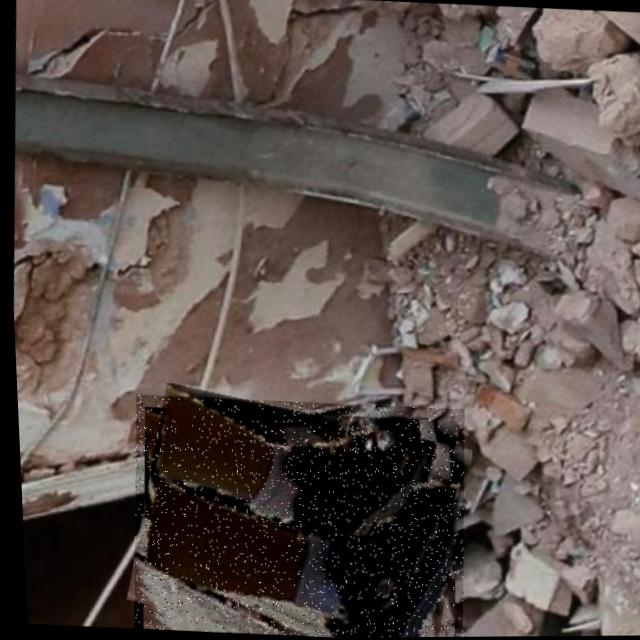Person in Rubble: (120, 391, 468, 639)
